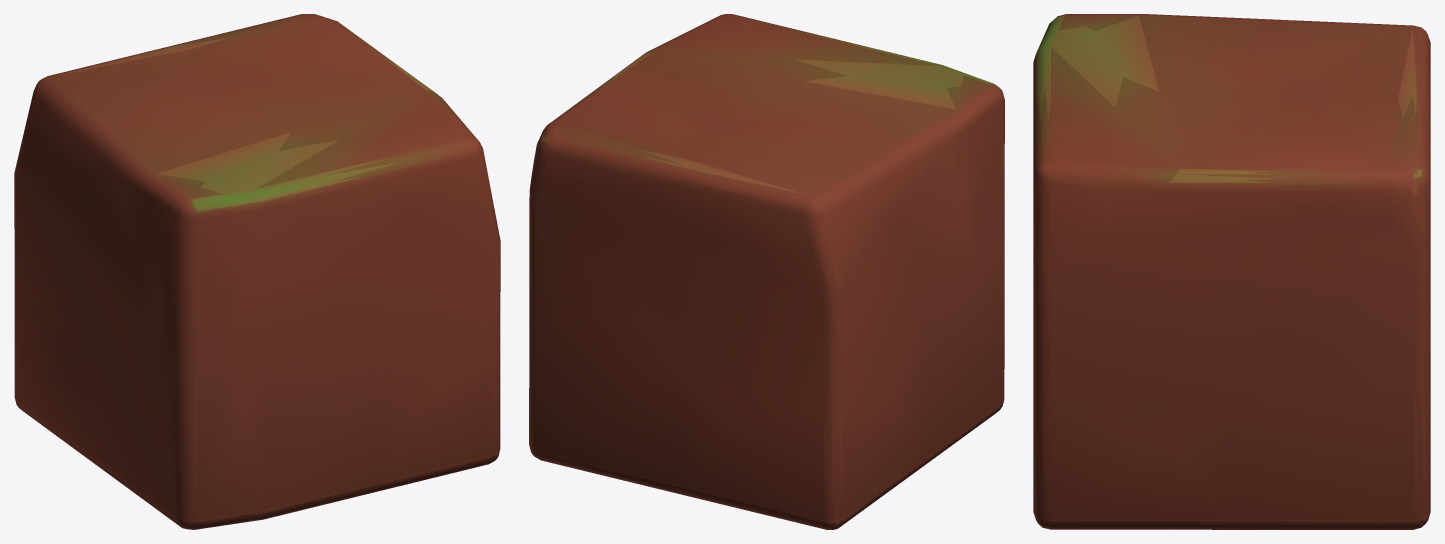
Rendered from mire_brick_chunk.glb.
3 views of the same model, side by side, from view 1: azimuth 30°, elevation 25°; view 2: azimuth 150°, elevation 25°; view 3: azimuth 270°, elevation 25° (orthographic). The views are drawn at different scales.
Visible parts, largest first — view 1: mire_brick_chunk; view 2: mire_brick_chunk; view 3: mire_brick_chunk.
Boxes of the visible parts, <box> form: mire_brick_chunk: <box>14,14,500,529</box>; mire_brick_chunk: <box>529,14,1004,529</box>; mire_brick_chunk: <box>1033,14,1430,529</box>.
Bounding box in the file's own units: 4.8 × 4.8 × 4.8.
